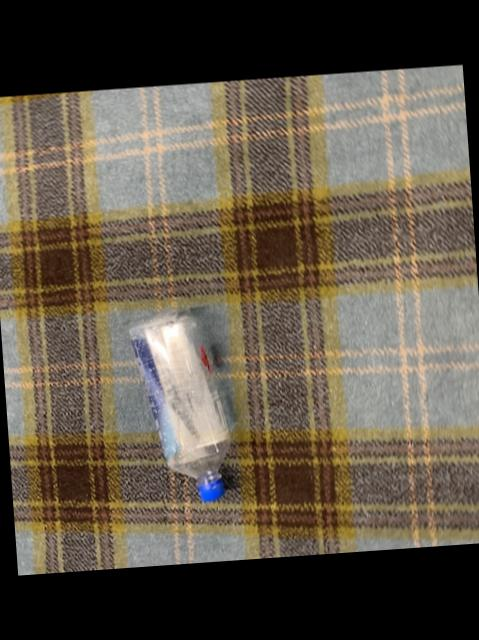plastic: (127, 307, 228, 499)
